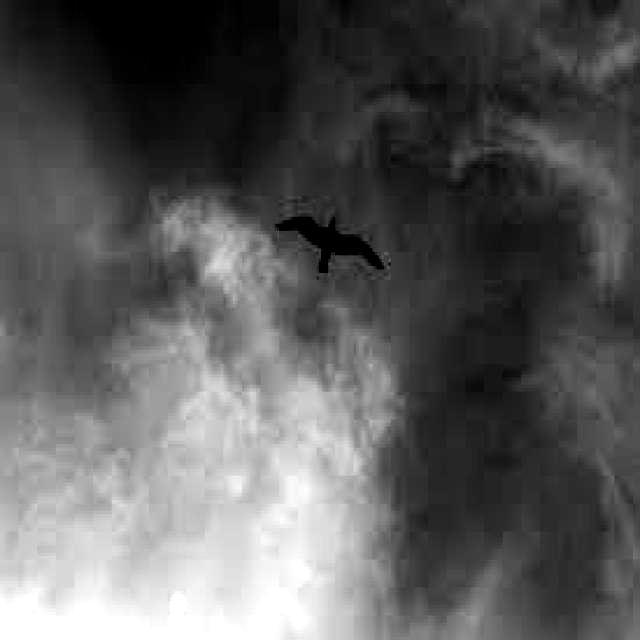bird: (272, 202, 390, 282)
